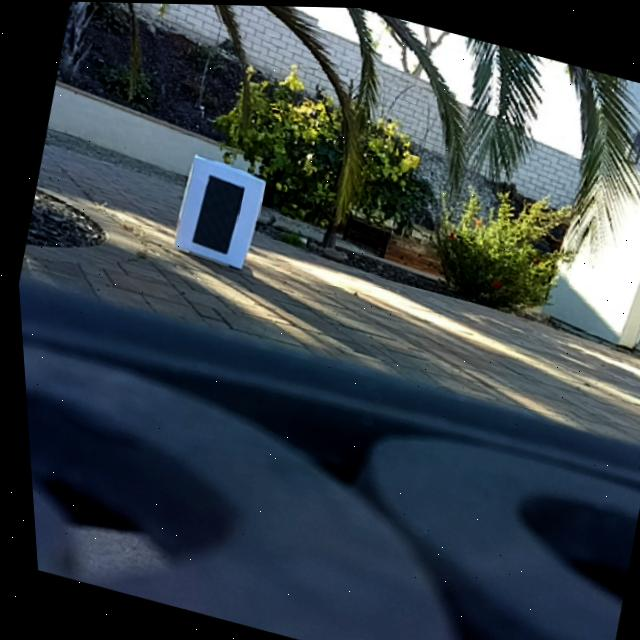led: (185, 171, 245, 256)
